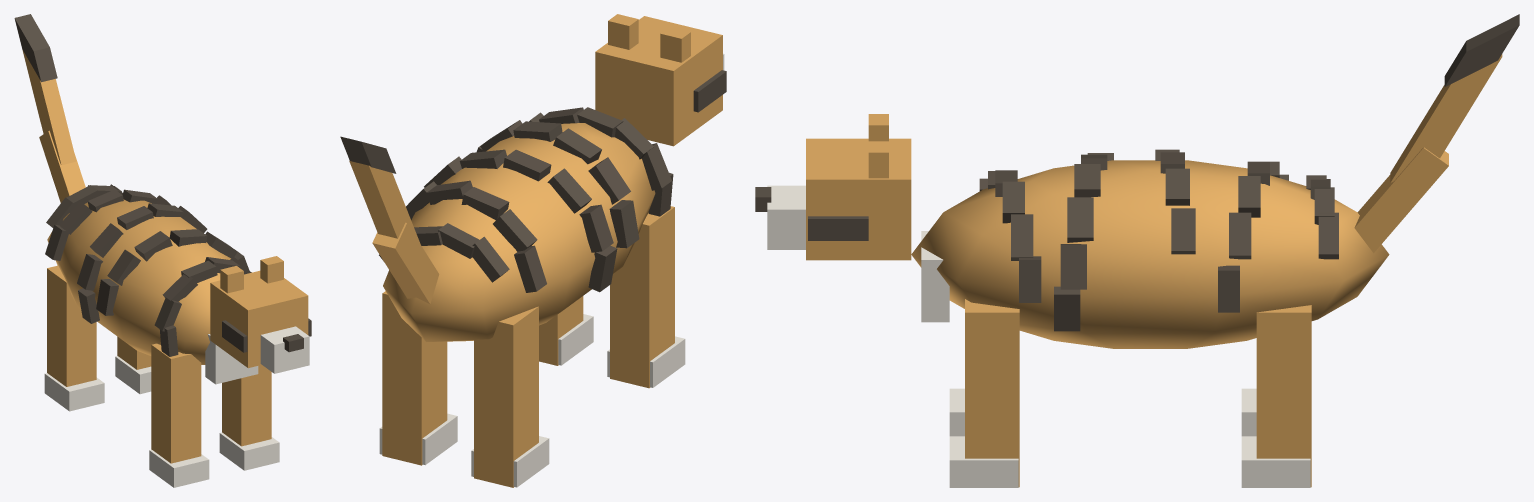
The model's file is troop-tiger.glb.
3 views of the same model, side by side, from view 1: azimuth 30°, elevation 25°; view 2: azimuth 150°, elevation 25°; view 3: azimuth 270°, elevation 25° (orthographic). The views are drawn at different scales.
Visible parts, largest first — view 1: body, head, leg_fl, leg_bl, leg_fr, tail2, muzzle, tail_tip, hoof_fr, hoof_bl, hoof_fl, tail1 (+26 smaller); view 2: body, head, leg_bl, leg_fl, leg_br, tail1, tail2, leg_fr, hoof_br, hoof_bl, hoof_fl, tail_tip (+27 smaller); view 3: body, head, leg_fr, leg_br, tail1, tail2, muzzle, hoof_br, hoof_fr, tail_tip, chest_fur, cheek_stripe_1 (+14 smaller).
Part boxes in pixels (box(x1,y1,x2,y2)): body: box(47, 199, 230, 364); head: box(210, 270, 308, 368); leg_fl: box(151, 343, 201, 463); leg_bl: box(47, 265, 96, 386); leg_fr: box(222, 365, 271, 446); tail2: box(22, 49, 76, 165); muzzle: box(260, 326, 309, 373); tail_tip: box(14, 14, 57, 82); hoof_fr: box(219, 432, 279, 470); hoof_bl: box(44, 373, 104, 411); hoof_fl: box(149, 449, 209, 487); tail1: box(39, 130, 85, 202); body: box(383, 123, 655, 341); head: box(595, 16, 722, 146); leg_bl: box(474, 306, 538, 487); leg_fl: box(610, 206, 674, 388); leg_br: box(382, 291, 447, 465); tail1: box(372, 222, 439, 303); tail2: box(349, 161, 420, 243); leg_fr: box(539, 296, 583, 365); hoof_br: box(379, 413, 457, 465); hoof_bl: box(471, 436, 549, 487); hoof_fl: box(607, 336, 685, 387); tail_tip: box(340, 136, 396, 173); body: box(911, 160, 1389, 348); head: box(806, 138, 911, 260); leg_fr: box(965, 299, 1019, 487); leg_br: box(1256, 305, 1311, 487); tail1: box(1354, 147, 1448, 253); tail2: box(1390, 54, 1502, 182); muzzle: box(767, 185, 805, 249); hoof_br: box(1241, 436, 1310, 487); hoof_fr: box(949, 436, 1018, 487); tail_tip: box(1444, 14, 1519, 86); chest_fur: box(921, 231, 949, 322); cheek_stripe_1: box(808, 216, 868, 240).
Size of the model in its own units: 0.1089 by 0.236 by 0.3773.
